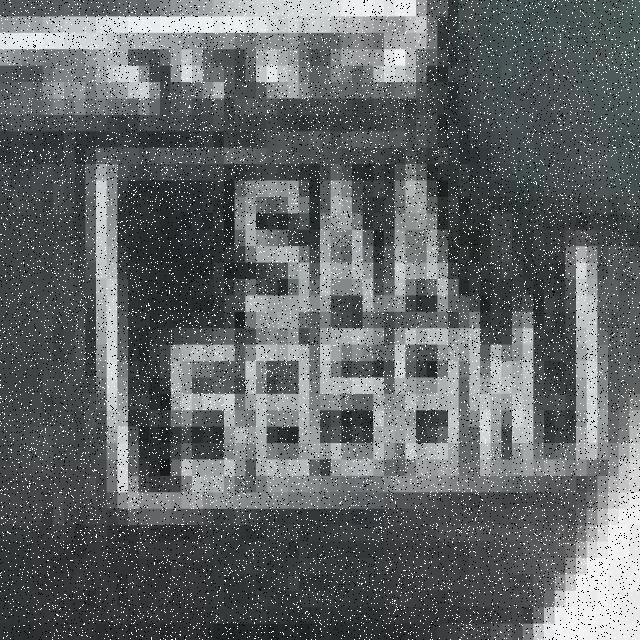LicensePlate: (86, 140, 613, 534)
